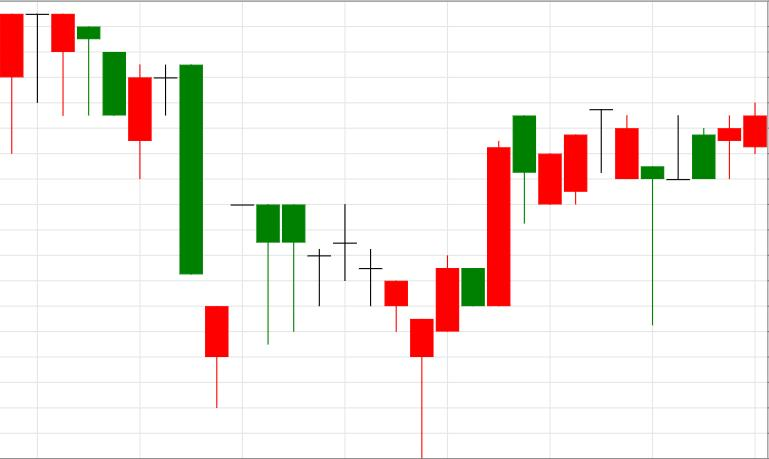hammer_rise: (282, 204, 433, 458)
